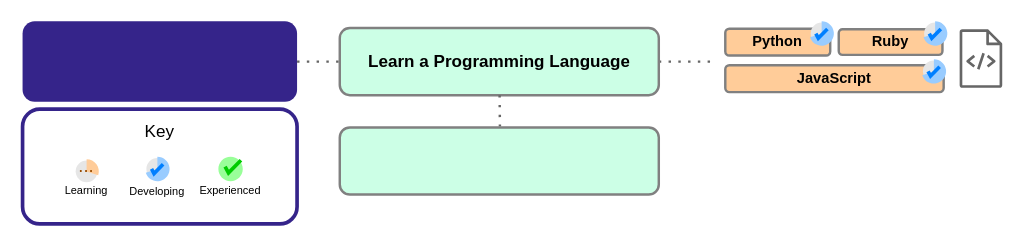
Image size: 1024x246. Some labels were removed from this diagram. The shapes that lost their labels are listed below. From the top down, each one's centre as x and y in pixels, then its label:
the point at 159,61: Abdul Mobarak My Learning Journey
the point at 498,160: Operating Systems
